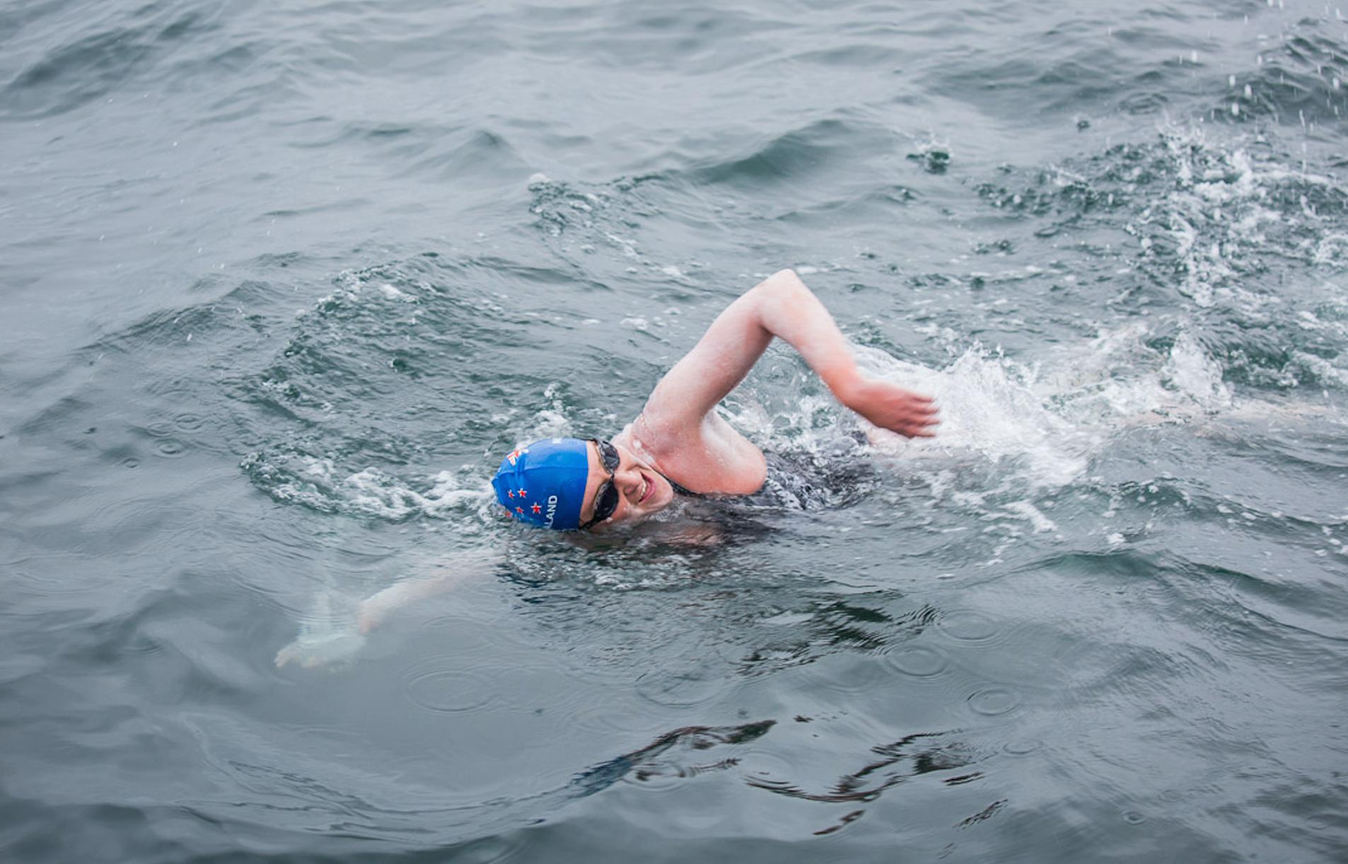human: (313, 255, 953, 658)
